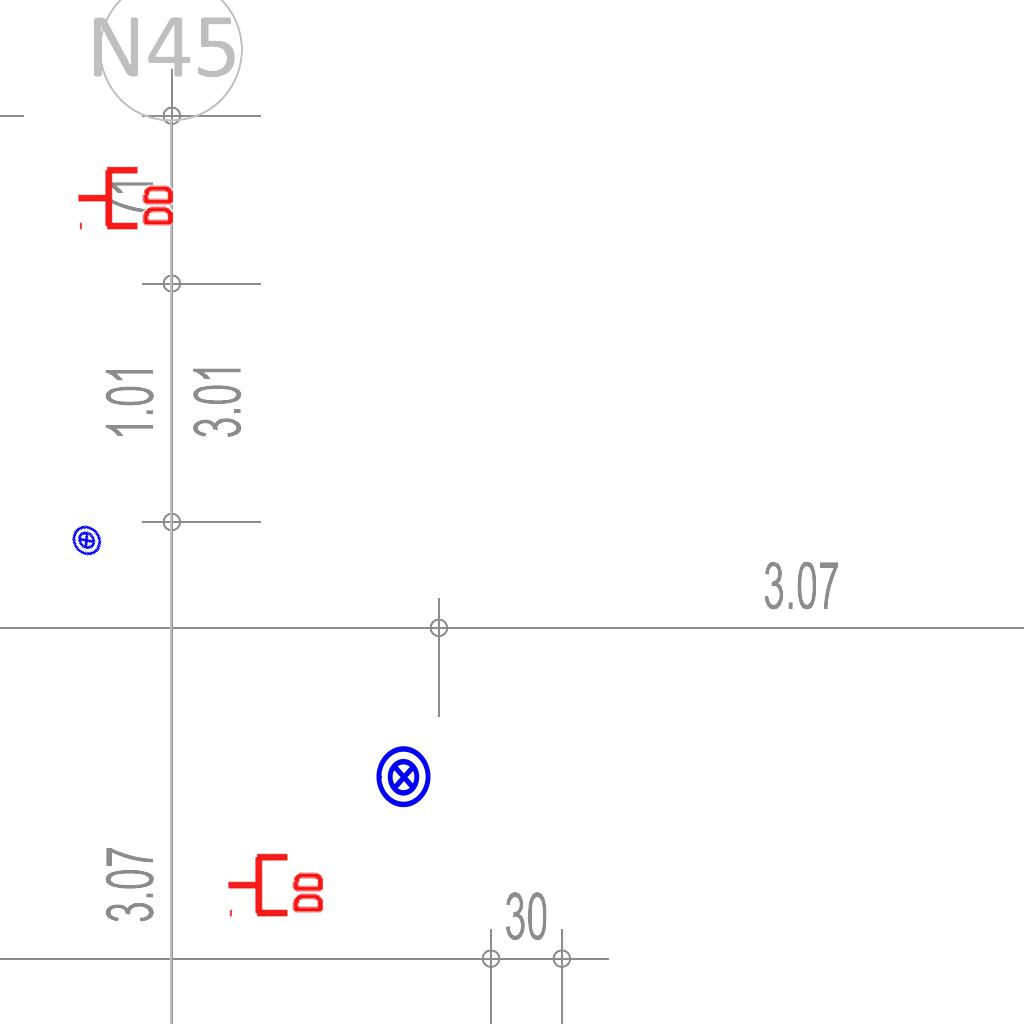Datenanschluss_zweifach: (225, 849, 328, 918), (75, 162, 178, 231)
Taster_beleuchtet: (371, 744, 437, 810), (63, 517, 110, 564)
